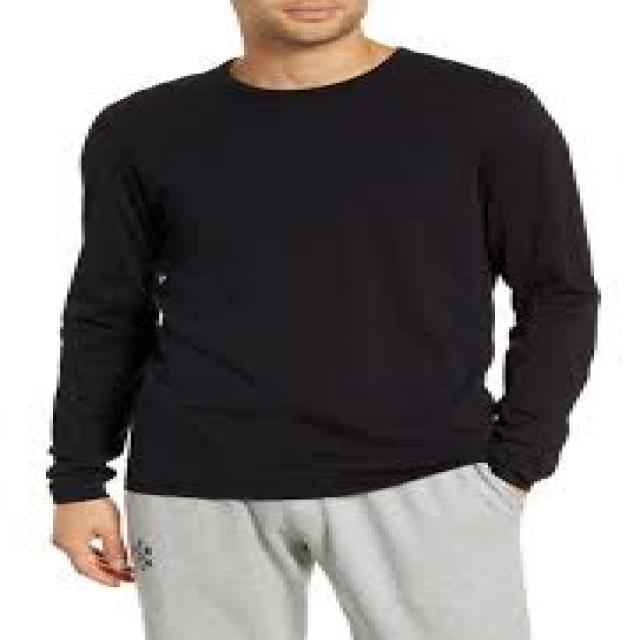plain: (56, 57, 604, 492)
